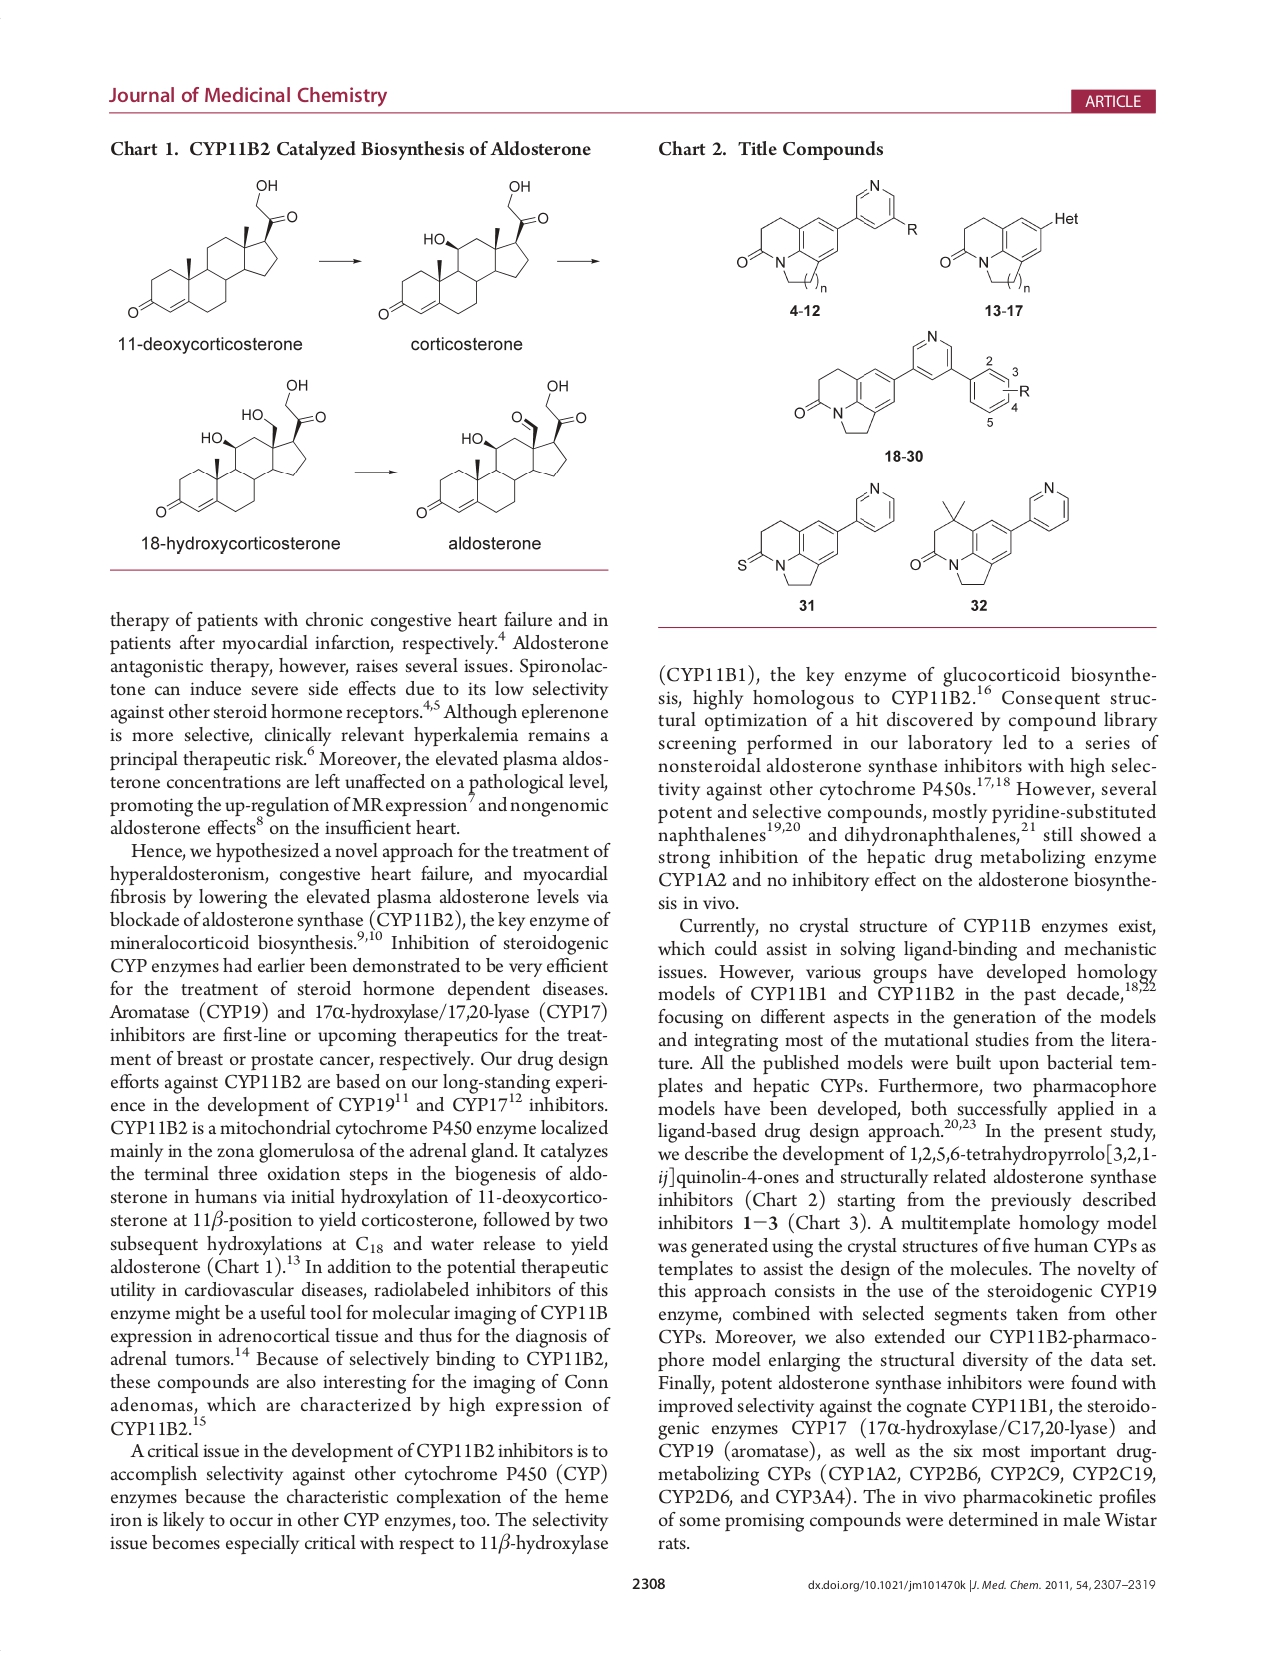exist_molecular: (793, 327, 1031, 438), (374, 178, 553, 323), (412, 378, 590, 523), (153, 376, 332, 519), (126, 176, 301, 321), (731, 178, 920, 294), (733, 477, 902, 592), (907, 477, 1073, 590), (938, 209, 1082, 293)
